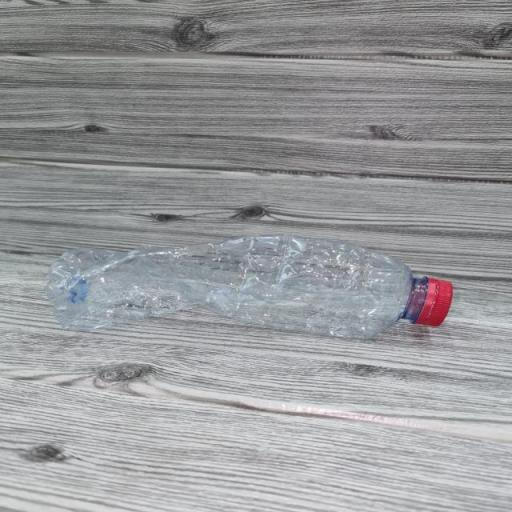plastic: (46, 232, 460, 342)
